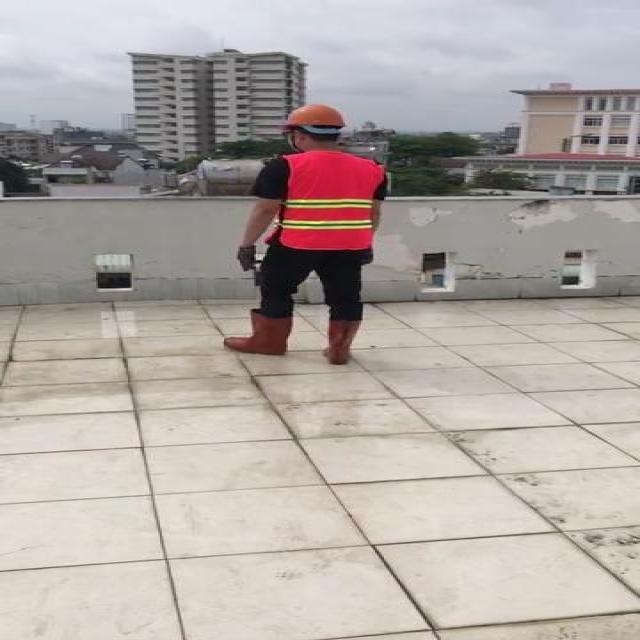boots: (224, 310, 293, 356), (322, 321, 361, 364)
hand_glove: (237, 244, 260, 270), (363, 248, 375, 268)
head_helmet: (282, 102, 348, 130)
person: (222, 101, 391, 364)
vest: (281, 153, 380, 247)
